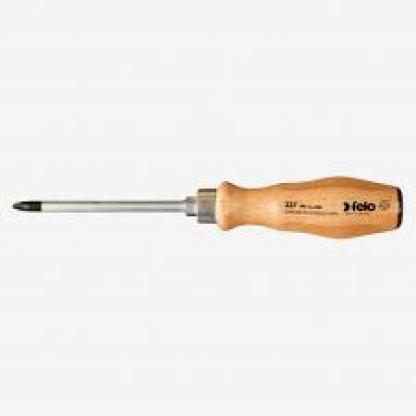Screw Driver: (9, 168, 408, 242)
